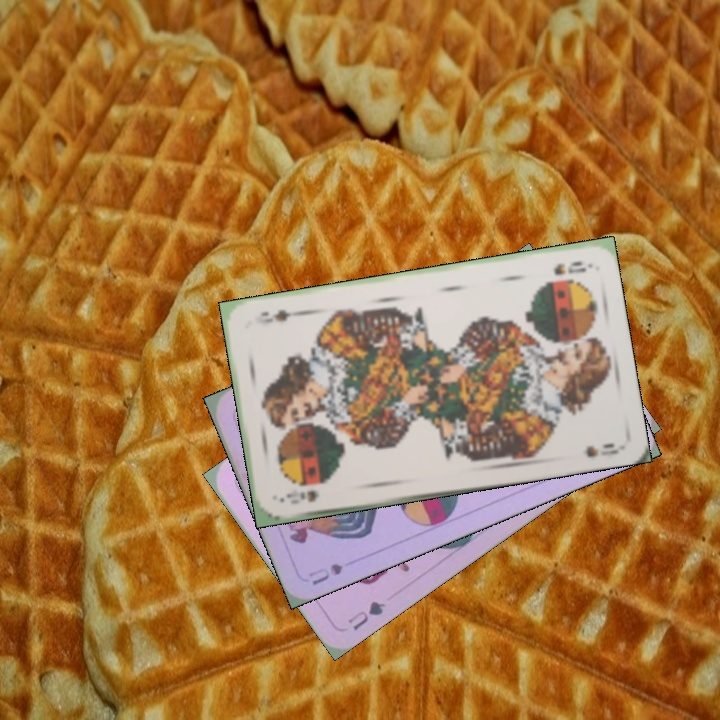GU: (343, 597, 388, 633)
SO: (550, 257, 589, 278), (282, 485, 321, 505)
SU: (304, 559, 346, 588)
